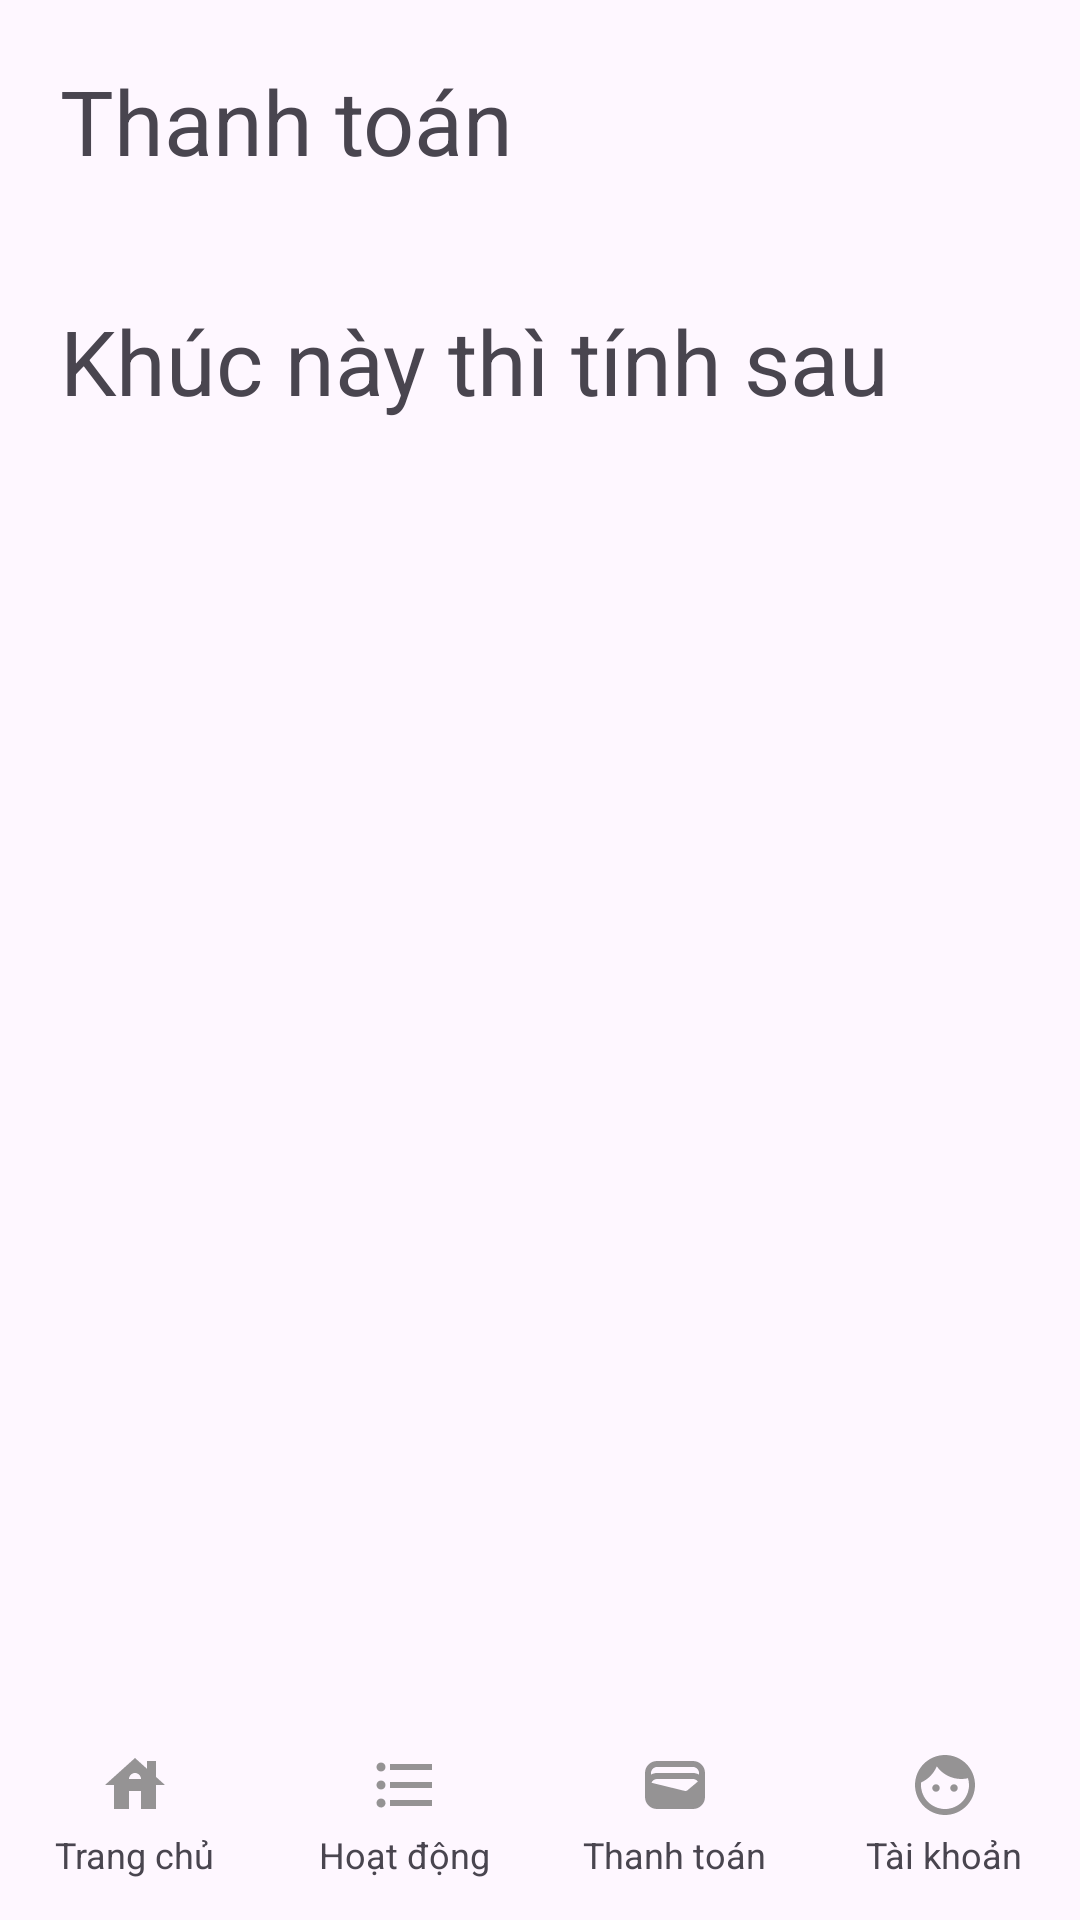

Where icons sit on this 1080 x 1920 app screen, as (x1, y1, x2, y2):
face: (915, 1755, 975, 1815)
house: (105, 1758, 165, 1809)
list: (376, 1762, 432, 1808)
wallet: (645, 1761, 705, 1809)
